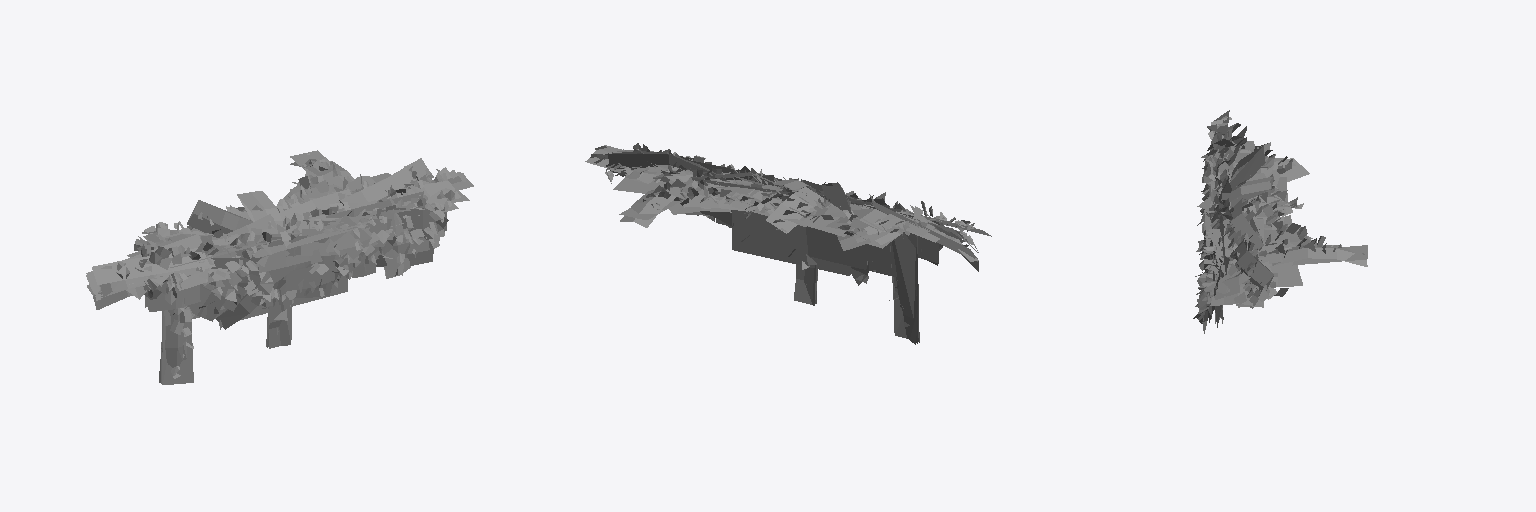
Rendered from Wall_Ivy_01.obj.
3 renders of one model, left to right at view 1: azimuth 30°, elevation 25°; view 2: azimuth 150°, elevation 25°; view 3: azimuth 270°, elevation 25°, orthographic.
Parts seen in each view (by area): view 1: Wall_Ivy_01_LOD0, Wall_Ivy_01_LOD1, Wall_Ivy_01_LOD3; view 2: Wall_Ivy_01_LOD0, Wall_Ivy_01_LOD1, Wall_Ivy_01_LOD2; view 3: Wall_Ivy_01_LOD0, Wall_Ivy_01_LOD1.
Boxes of the visible parts, <box> form: Wall_Ivy_01_LOD0: <box>87,153,473,382</box>; Wall_Ivy_01_LOD1: <box>86,150,460,383</box>; Wall_Ivy_01_LOD3: <box>86,276,291,384</box>; Wall_Ivy_01_LOD0: <box>585,143,991,344</box>; Wall_Ivy_01_LOD1: <box>608,150,977,343</box>; Wall_Ivy_01_LOD2: <box>668,154,975,342</box>; Wall_Ivy_01_LOD0: <box>1193,110,1367,333</box>; Wall_Ivy_01_LOD1: <box>1199,125,1367,323</box>.
Size of the model in its own units: 291 by 114 by 115.